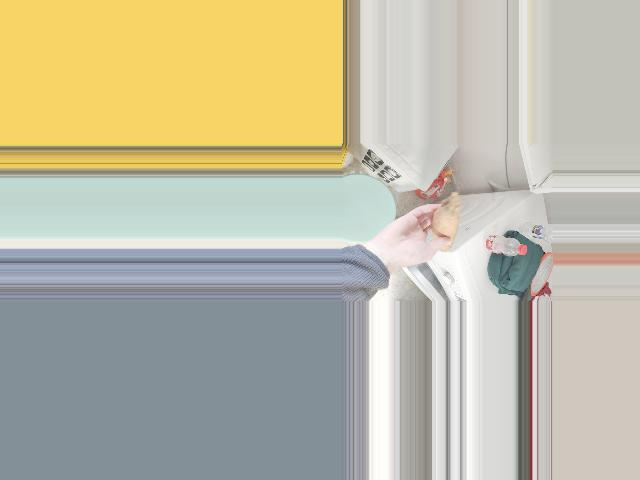sweet_potato: (434, 203, 459, 248)
